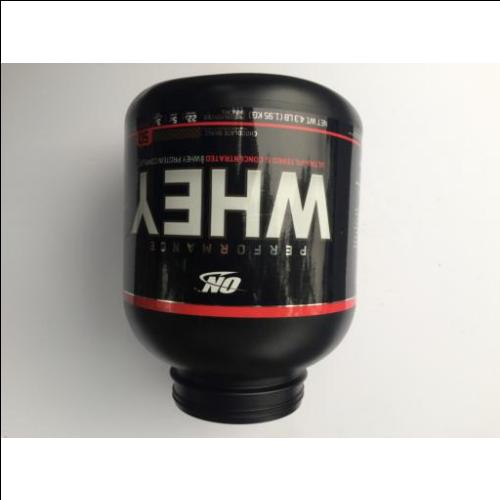plastic: (123, 71, 363, 426)
